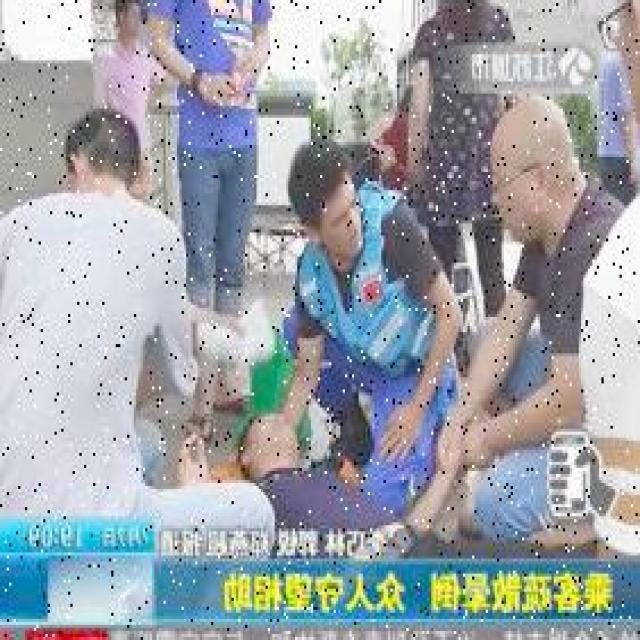fall: (188, 408, 447, 552)
